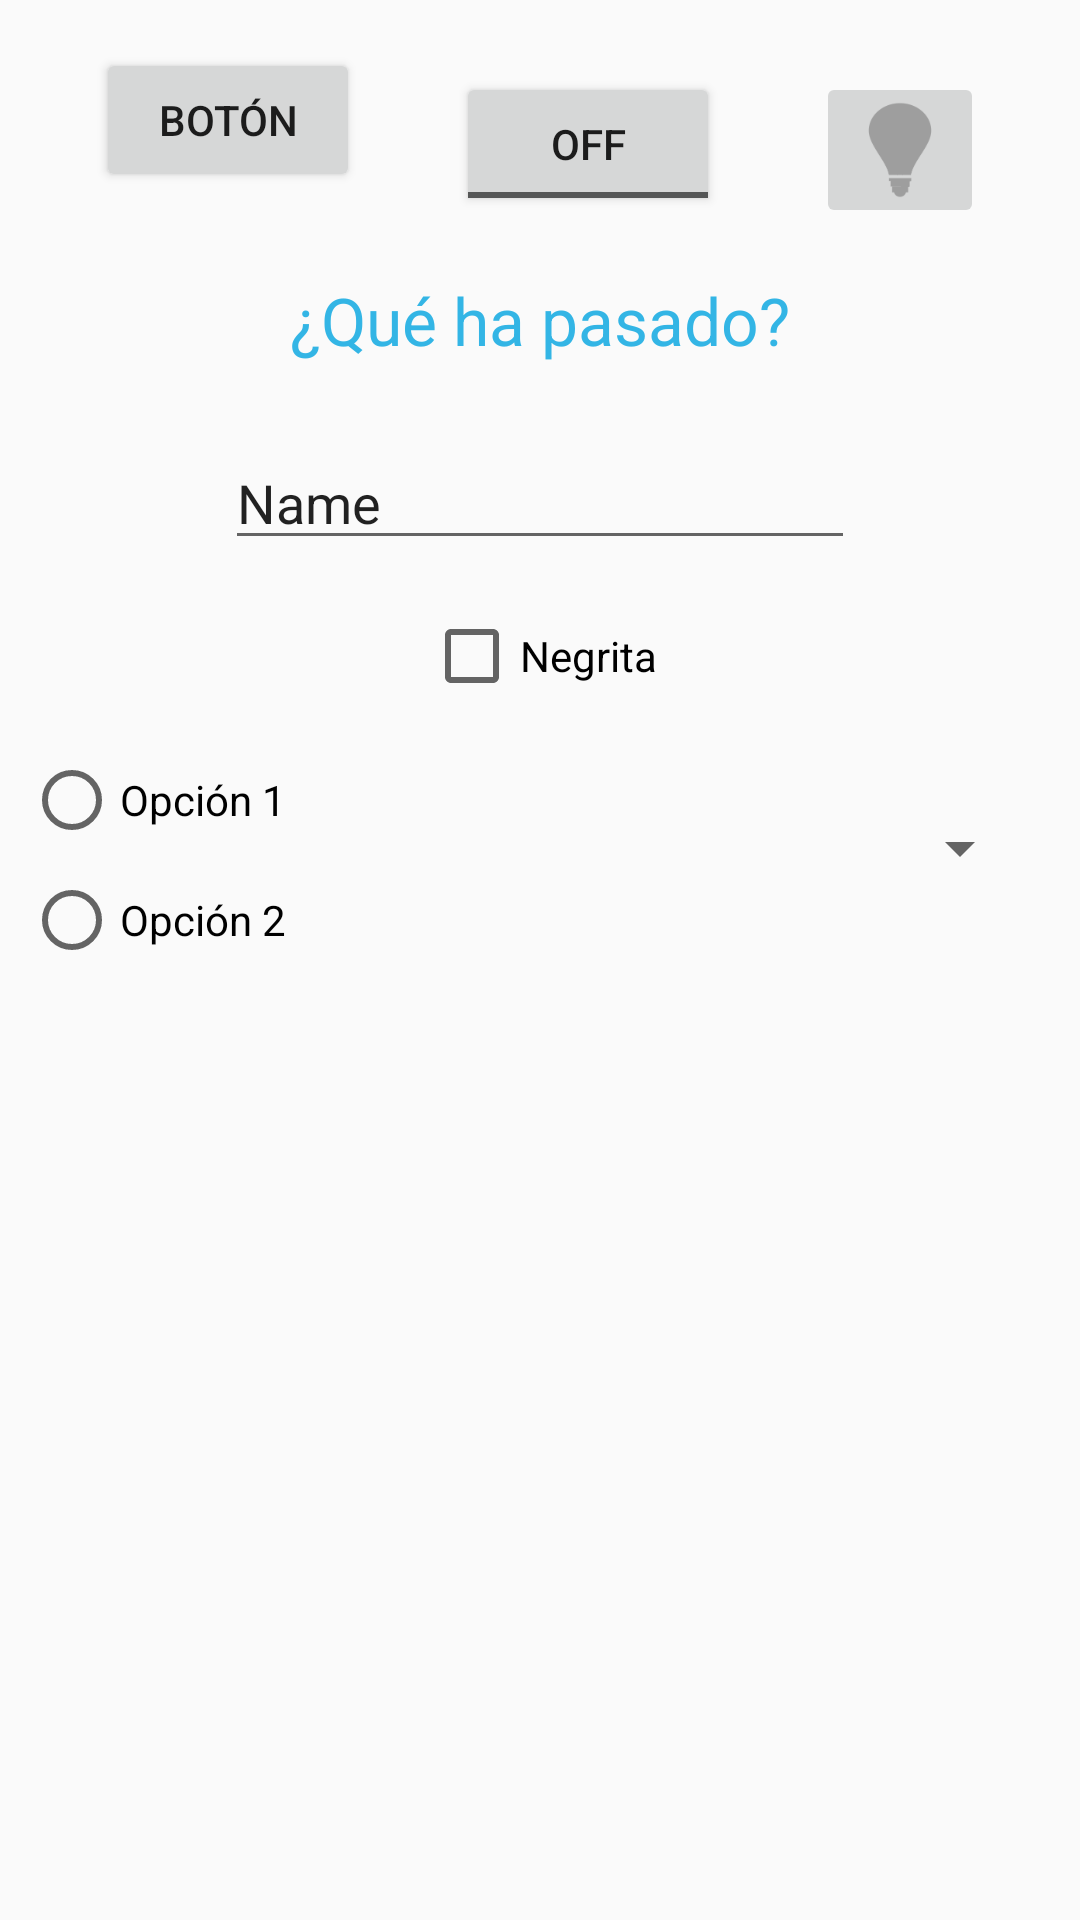

Point at icon controls on the screen. Image size 1080px x 1920px, points as (x,y).
bombilla: (900,150)
